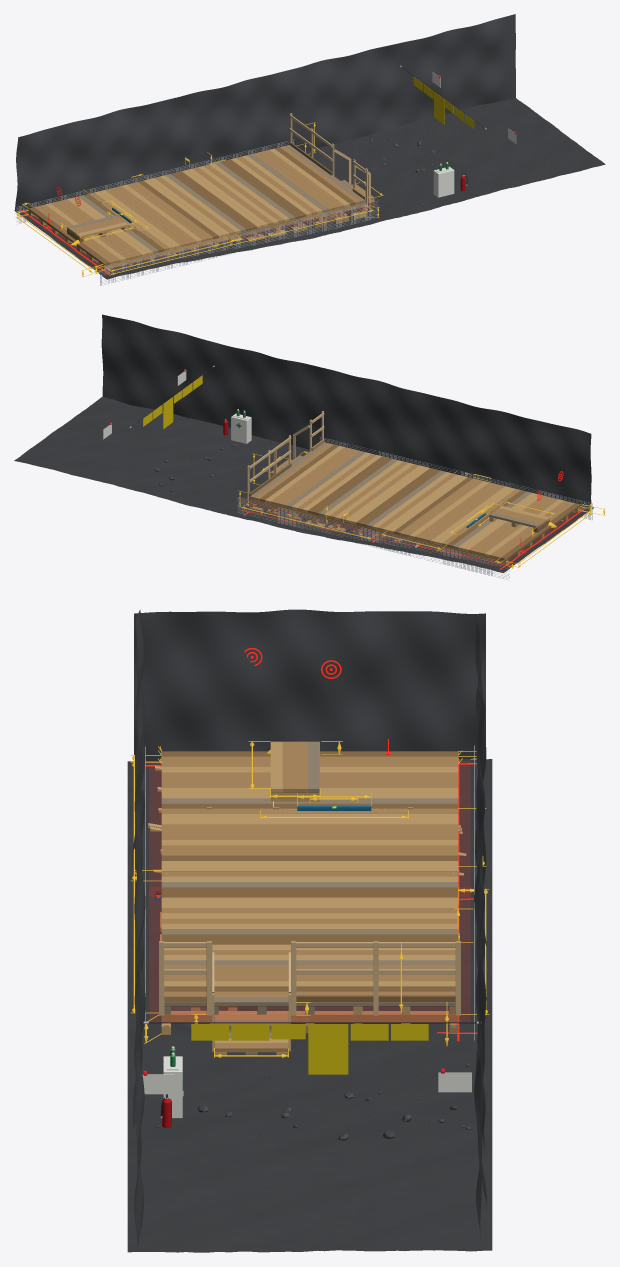
The model's file is plancher.glb.
3 views of the same model, one above another, from view 1: azimuth 30°, elevation 25°; view 2: azimuth 150°, elevation 25°; view 3: azimuth 270°, elevation 25° (orthographic). The views are drawn at different scales.
Parts seen in each view (by area): view 1: P02, P13, P07, P16, P10, variante-8pi, P04, P17, P14; view 2: P02, P13, P07, P16, P10, P17, P04, variante-8pi, P14; view 3: P02, P07, P13, P16, P10, P17, P14, variante-8pi.
Part boxes in pixels (x1,y1,x2,y2): P02: (14,14,605,279); P13: (160,145,366,233); P07: (28,176,235,265); P16: (16,113,378,285); P10: (235,202,367,242); variante-8pi: (28,202,366,268); P04: (28,211,237,271); P17: (67,215,128,242); P14: (333,149,374,202); P02: (14,314,605,572); P13: (249,442,451,529); P07: (377,473,580,560); P16: (237,411,592,579); P10: (246,498,377,535); P17: (489,506,549,532); P04: (372,507,580,564); variante-8pi: (250,498,577,564); P14: (270,425,309,476); P02: (127,609,492,1252); P07: (161,751,458,876); P13: (161,876,458,1006); P16: (145,745,474,1041); P10: (160,912,459,1034); P17: (270,741,319,801); P14: (212,952,290,1055); variante-8pi: (148,823,461,1022).
Size of the model in its own units: 19.26 by 3.57 by 5.99.
